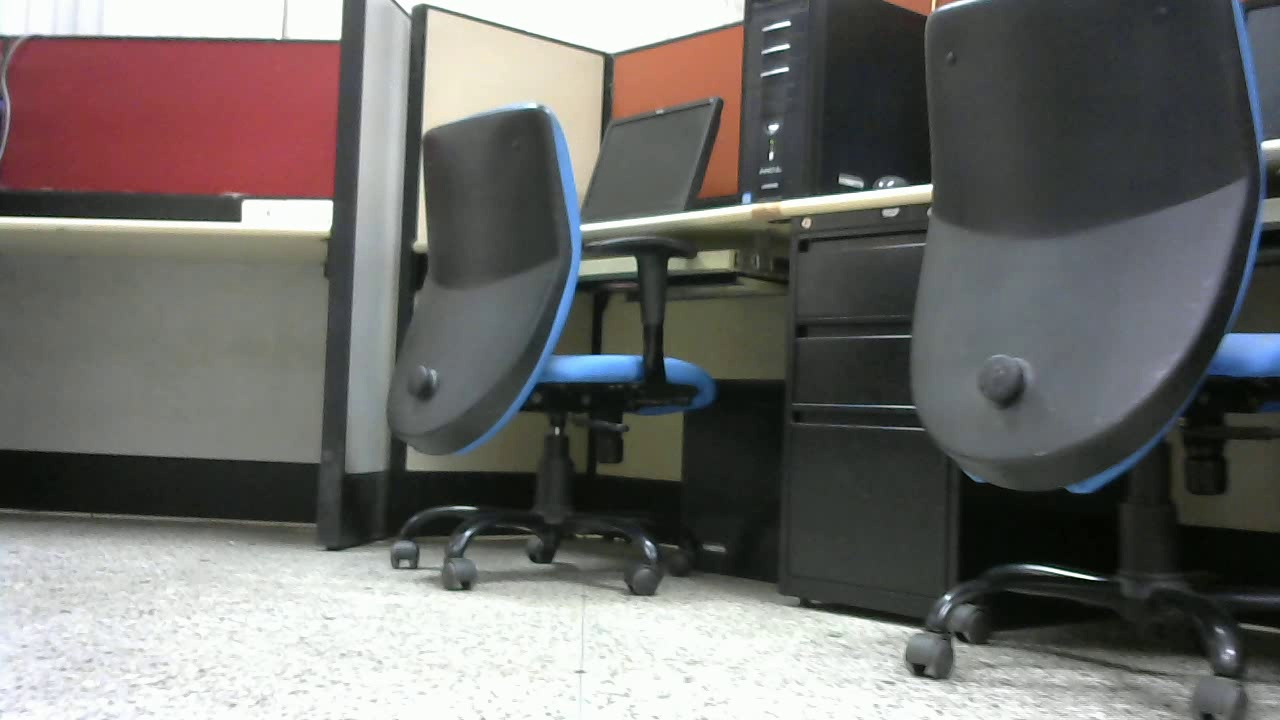chair: (379, 104, 721, 600)
